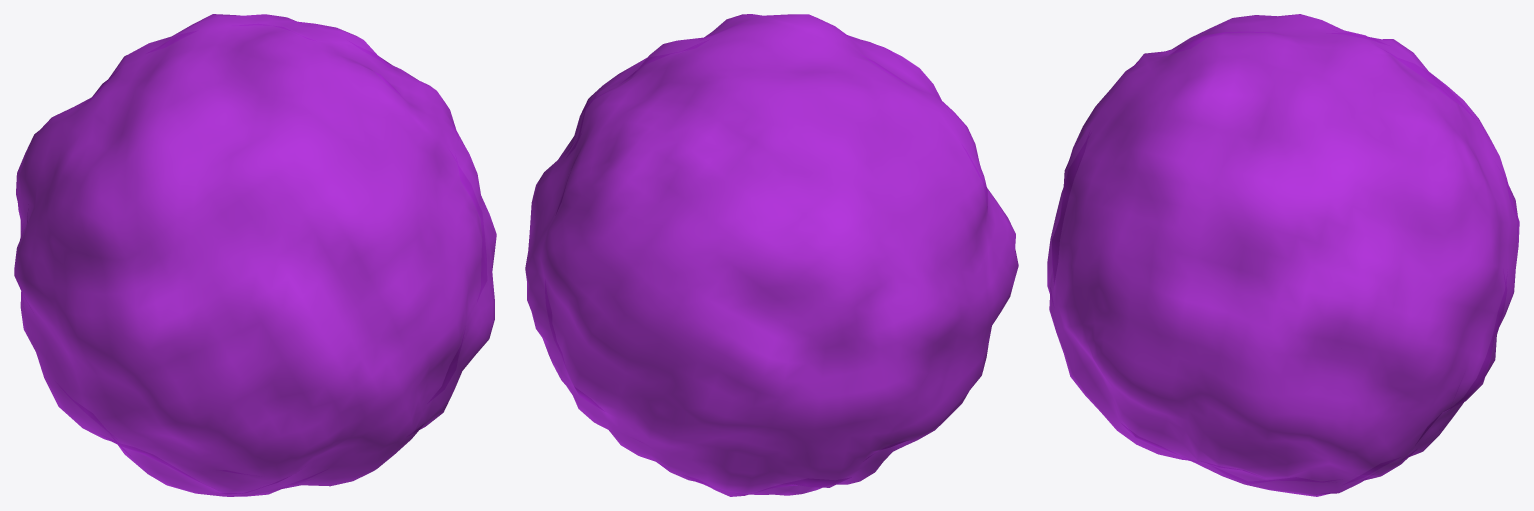
File: Staf.fbx
The picture shows the model from 3 angles, left to right: view 1: azimuth 30°, elevation 25°; view 2: azimuth 150°, elevation 25°; view 3: azimuth 270°, elevation 25°; orthographic projection.
Visible parts, largest first — view 1: Nucleus.003; view 2: Nucleus.003; view 3: Nucleus.003.
Part boxes in pixels (x1=…): Nucleus.003: x1=14, y1=14, x2=496, y2=496; Nucleus.003: x1=525, y1=14, x2=1018, y2=496; Nucleus.003: x1=1047, y1=14, x2=1519, y2=496.
Bounding box in the file's own units: 198 × 200 × 193.
